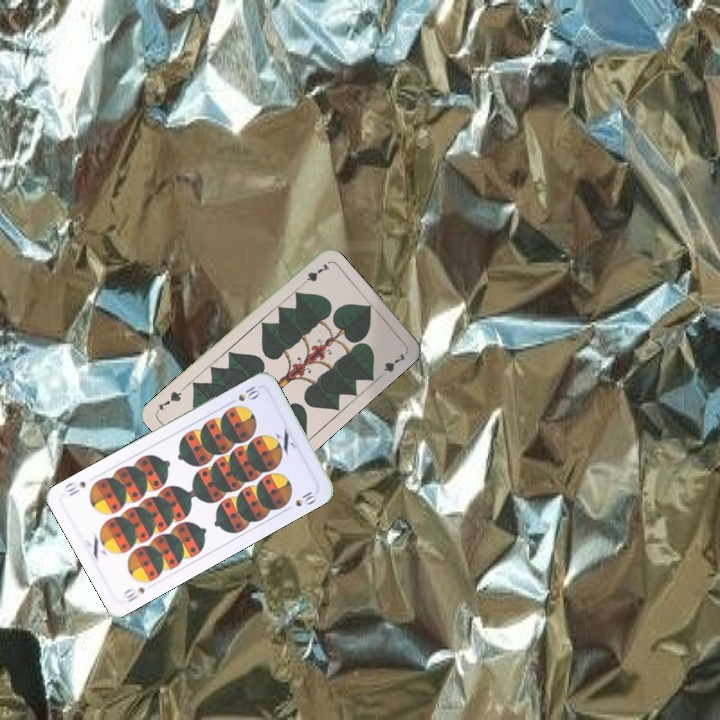G7: (295, 259, 331, 290)
S10: (234, 382, 263, 404), (120, 583, 147, 605)
